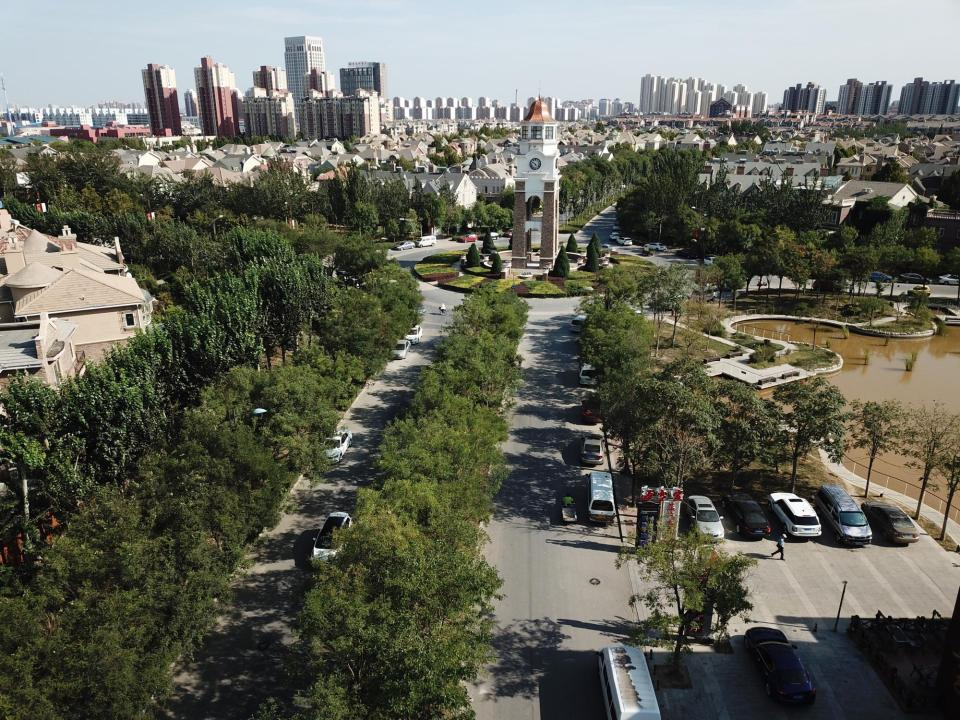car: (742, 626, 818, 708), (860, 499, 920, 544), (768, 492, 822, 539), (721, 489, 770, 539), (684, 495, 726, 543), (660, 286, 718, 309), (580, 433, 606, 465), (580, 398, 603, 423), (579, 358, 597, 387), (387, 340, 411, 360), (812, 278, 843, 293), (404, 322, 424, 344), (898, 272, 930, 285), (865, 270, 892, 283), (408, 298, 427, 316), (570, 316, 588, 332), (676, 248, 698, 260), (938, 274, 960, 286), (392, 241, 416, 251), (703, 256, 723, 268), (645, 241, 668, 251), (615, 236, 633, 246), (460, 233, 478, 242), (480, 232, 500, 240), (612, 220, 622, 231), (609, 231, 620, 240), (505, 228, 514, 237), (619, 182, 626, 189)
van: (595, 645, 662, 720), (817, 483, 873, 547), (310, 511, 352, 569), (585, 471, 615, 524), (317, 428, 353, 464), (415, 235, 437, 247)
